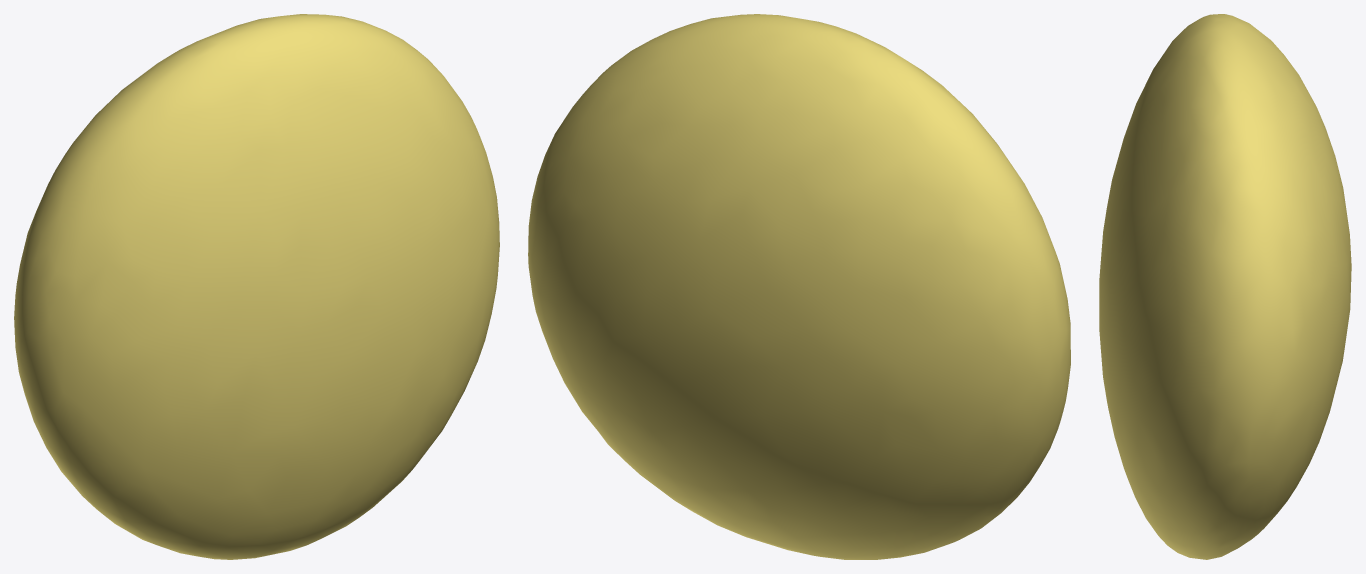
The model's file is lens-l.glb.
The picture shows the model from 3 angles, left to right: view 1: azimuth 30°, elevation 25°; view 2: azimuth 150°, elevation 25°; view 3: azimuth 270°, elevation 25°; orthographic projection. The views are drawn at different scales.
Parts seen in each view (by area): view 1: Lens.l; view 2: Lens.l; view 3: Lens.l.
Boxes of the visible parts, box(x1,y1,x2,y2) form: Lens.l: box(14, 14, 499, 559); Lens.l: box(528, 14, 1070, 559); Lens.l: box(1099, 14, 1351, 559).
Size of the model in its own units: 0.0103 by 0.0104 by 0.00481.
